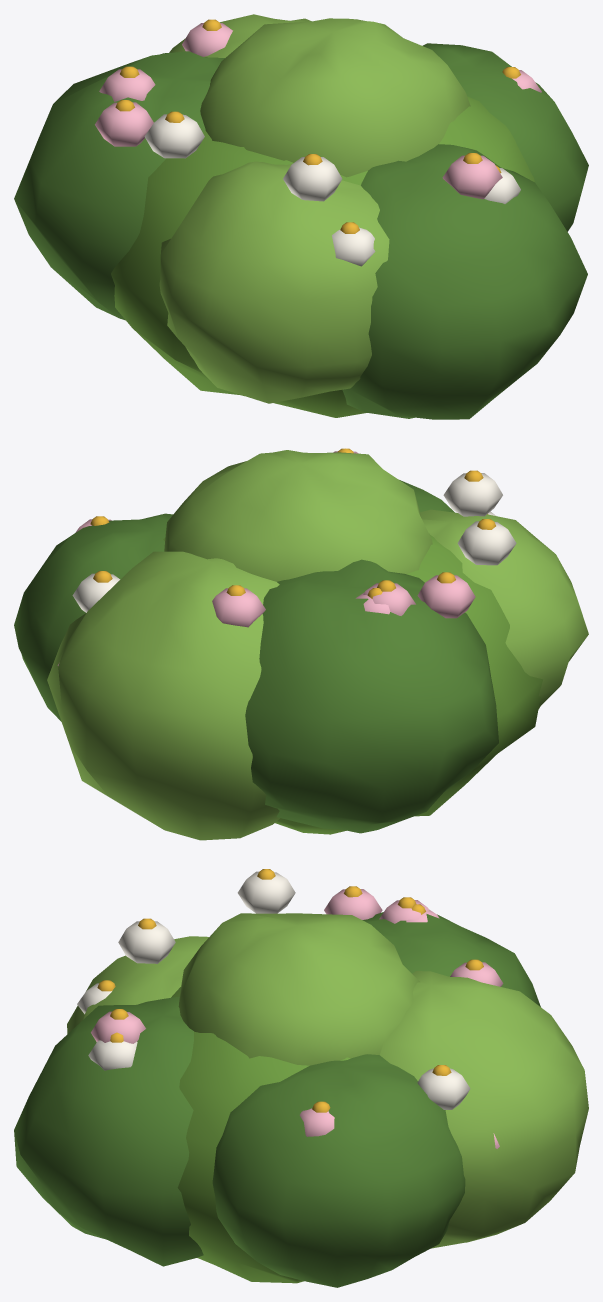
Rendered from bush_flower.glb.
The picture shows the model from 3 angles, top to bottom: view 1: azimuth 30°, elevation 25°; view 2: azimuth 150°, elevation 25°; view 3: azimuth 270°, elevation 25°; orthographic projection. The views are drawn at different scales.
Visible parts, largest first — view 1: bush_flower; view 2: bush_flower; view 3: bush_flower.
Part boxes in pixels (x1,y1,x2,y2): bush_flower: [14, 14, 588, 419]; bush_flower: [14, 448, 588, 840]; bush_flower: [14, 869, 588, 1287].
Bounding box in the file's own units: 1.03 × 0.7017 × 1.09.
